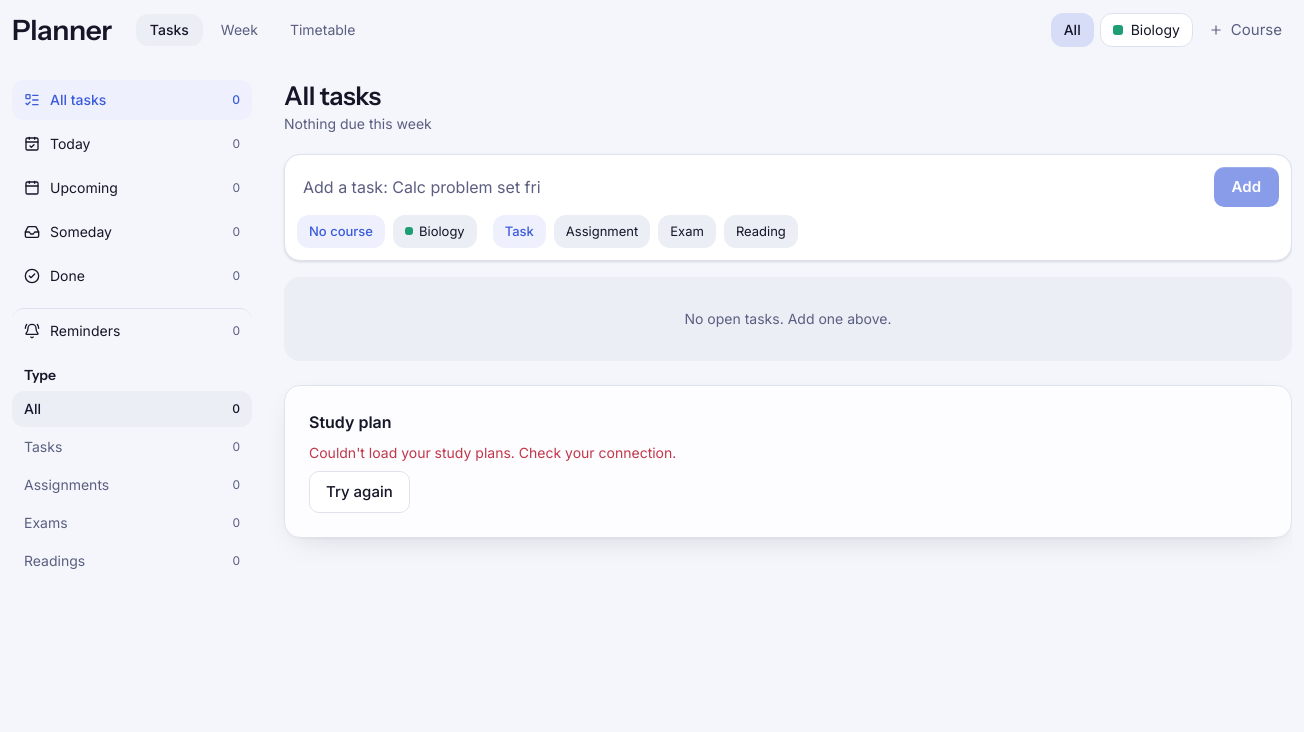
Scenario: Timetable tab › shows the weekly classes only and adds one from a button
Click the tab "Timetable" at (323, 30), box left=276, top=14, right=369, bottom=46
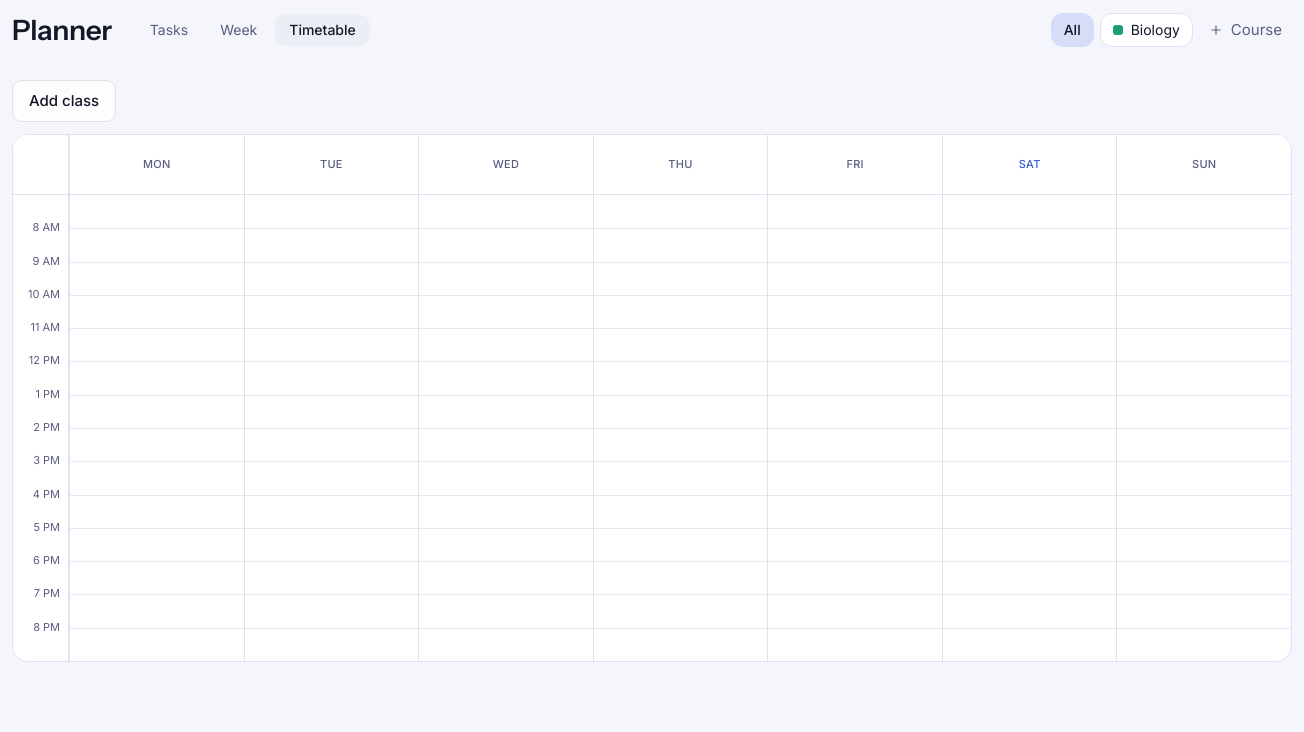
Check: the button "Add class" is shown, box left=12, top=80, right=116, bottom=122
Check: the button "day" is gone
